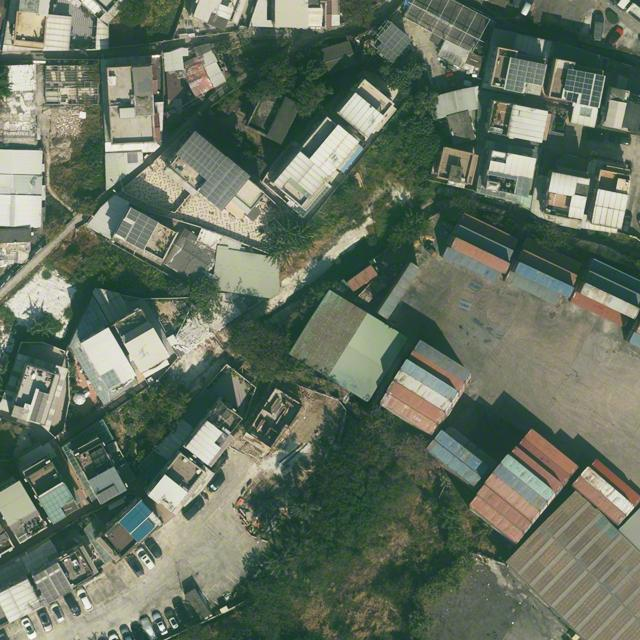panel: (176, 132, 250, 212), (32, 564, 73, 606), (565, 69, 604, 107), (505, 58, 546, 93), (126, 208, 158, 250), (116, 220, 132, 239), (566, 92, 578, 103)
